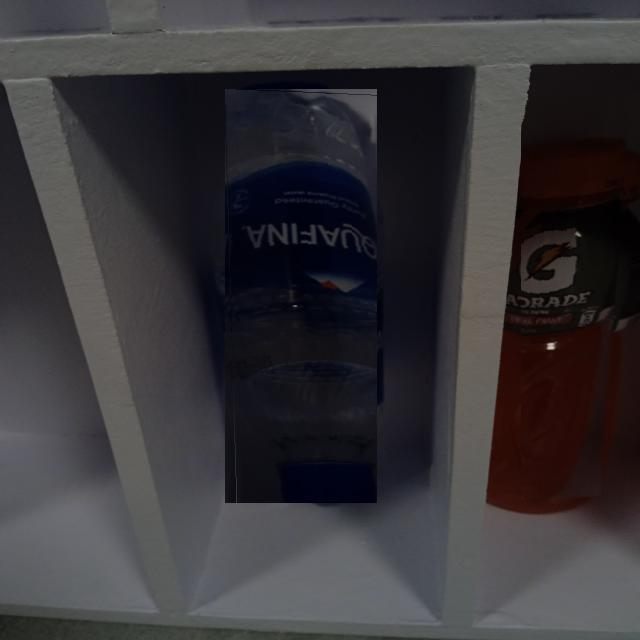Plastic: (224, 88, 377, 503), (521, 85, 632, 507)
